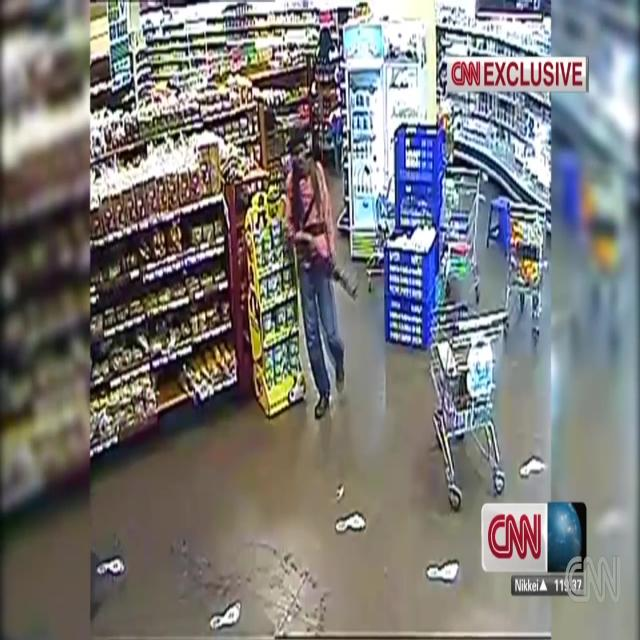Weapon: (280, 210, 363, 311)
